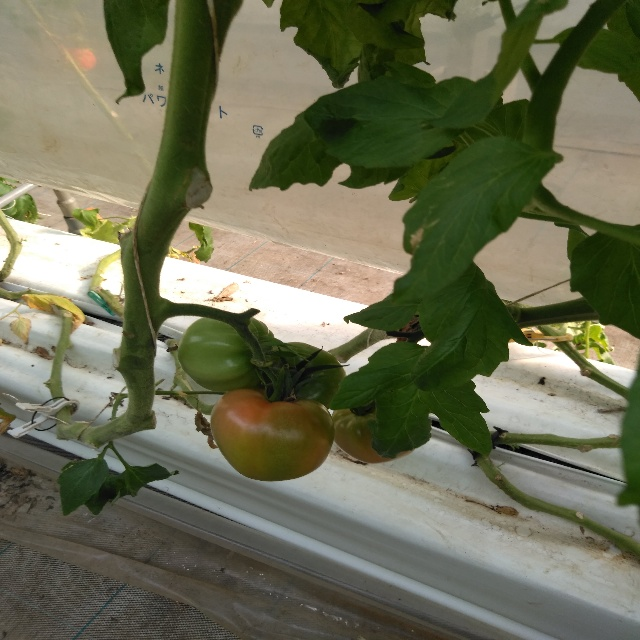b_green: (177, 314, 274, 391), (255, 342, 347, 410)
b_half_ripened: (210, 389, 334, 482), (332, 400, 415, 464)
